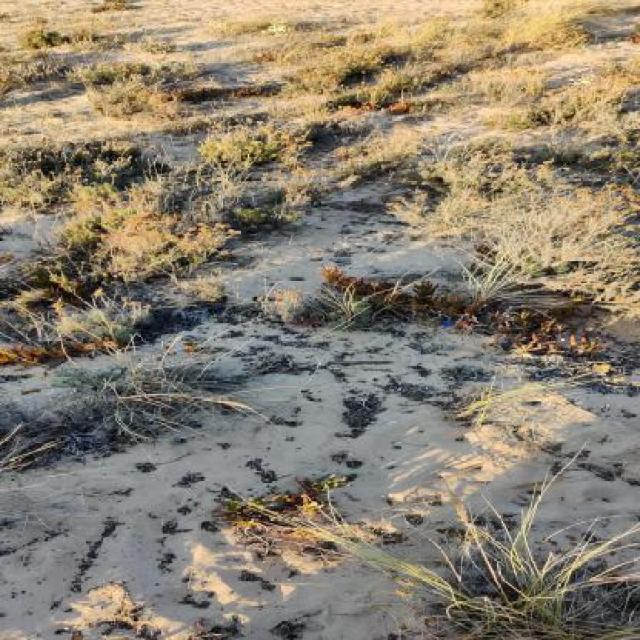plastic: (441, 322, 453, 326)
